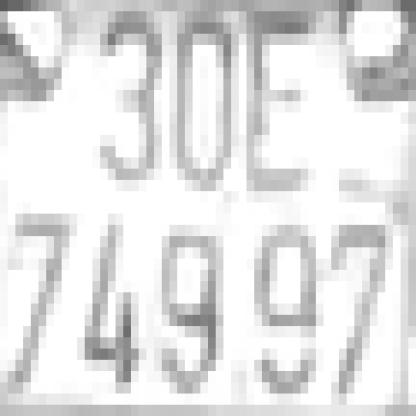0: (170, 11, 231, 191)
3: (100, 11, 170, 180)
4: (85, 202, 146, 382)
7: (15, 202, 77, 382), (324, 214, 385, 382)
9: (154, 214, 216, 382), (247, 214, 308, 382)
E: (239, 11, 308, 191)
